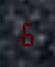six: (19, 20, 34, 46)
